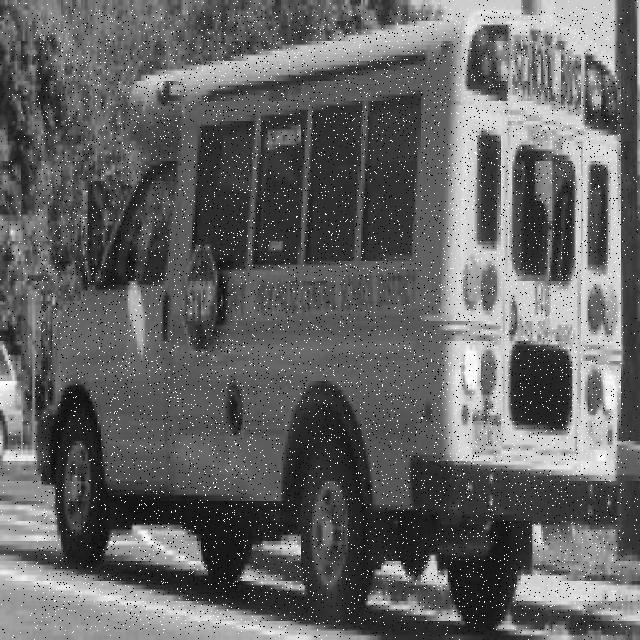Bus- Small: (34, 11, 623, 630)
